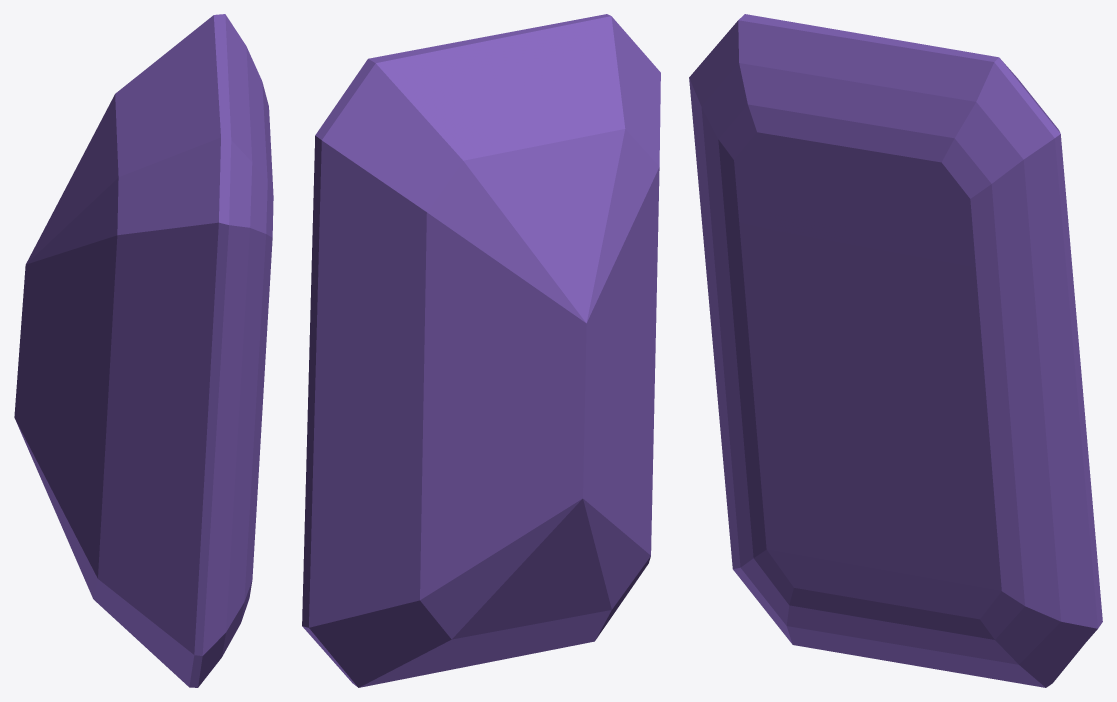
Rendered from BR4_8shapes_Emerald_Classic_Stone.001 2.glb.
3 renders of one model, left to right at view 1: azimuth 30°, elevation 25°; view 2: azimuth 150°, elevation 25°; view 3: azimuth 270°, elevation 25°, orthographic. The views are drawn at different scales.
Parts seen in each view (by area): view 1: BR4_8shapes_Emerald_Classic_Stone.001; view 2: BR4_8shapes_Emerald_Classic_Stone.001; view 3: BR4_8shapes_Emerald_Classic_Stone.001.
Boxes of the visible parts, x1,y1,x2,y2 form: BR4_8shapes_Emerald_Classic_Stone.001: [14, 14, 273, 687]; BR4_8shapes_Emerald_Classic_Stone.001: [302, 14, 660, 687]; BR4_8shapes_Emerald_Classic_Stone.001: [689, 14, 1102, 687].
Size of the model in its own units: 0.2688 by 0.6241 by 0.3618.
